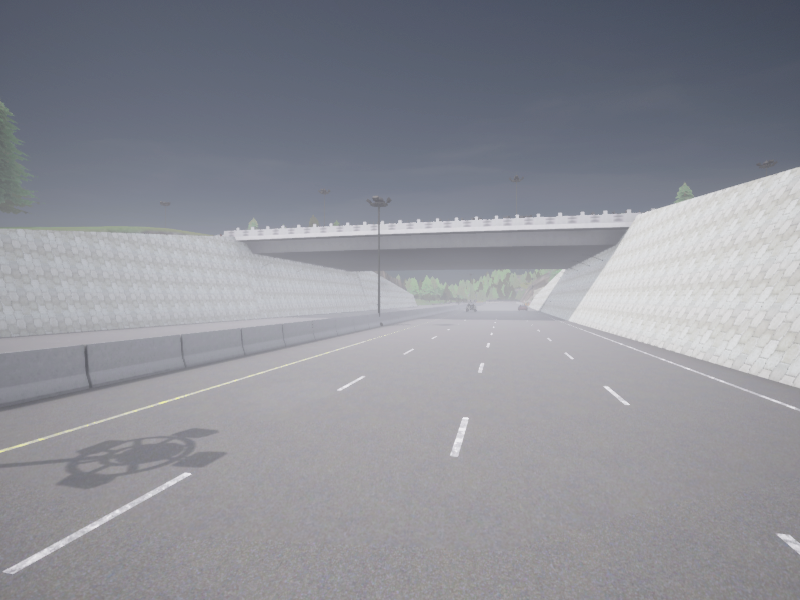vehicle: (466, 303, 476, 311), (518, 305, 527, 310)
